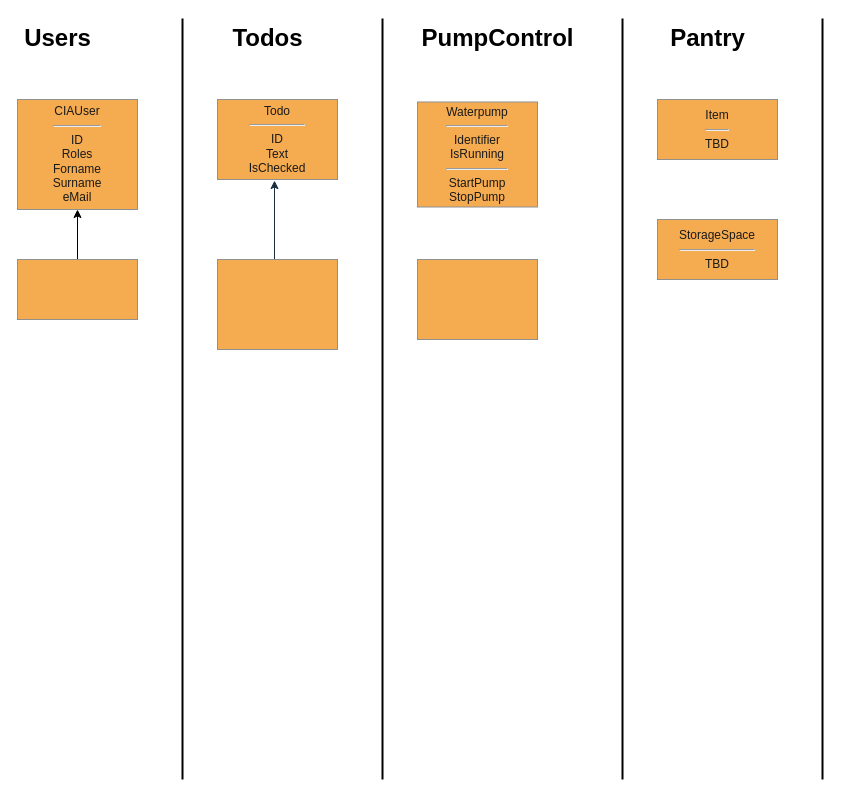
Some shapes in this 846 by 797 pixel diagram are drawn without their labels. The centre of each missing label's shape, as x and y in pixels:
"CIARole Identifier" goes at pixel 77 289.
"TodoList ID Text Todos" goes at pixel 277 304.
"Watertank Identifier Volume VolumeFilled" goes at pixel 477 299.
